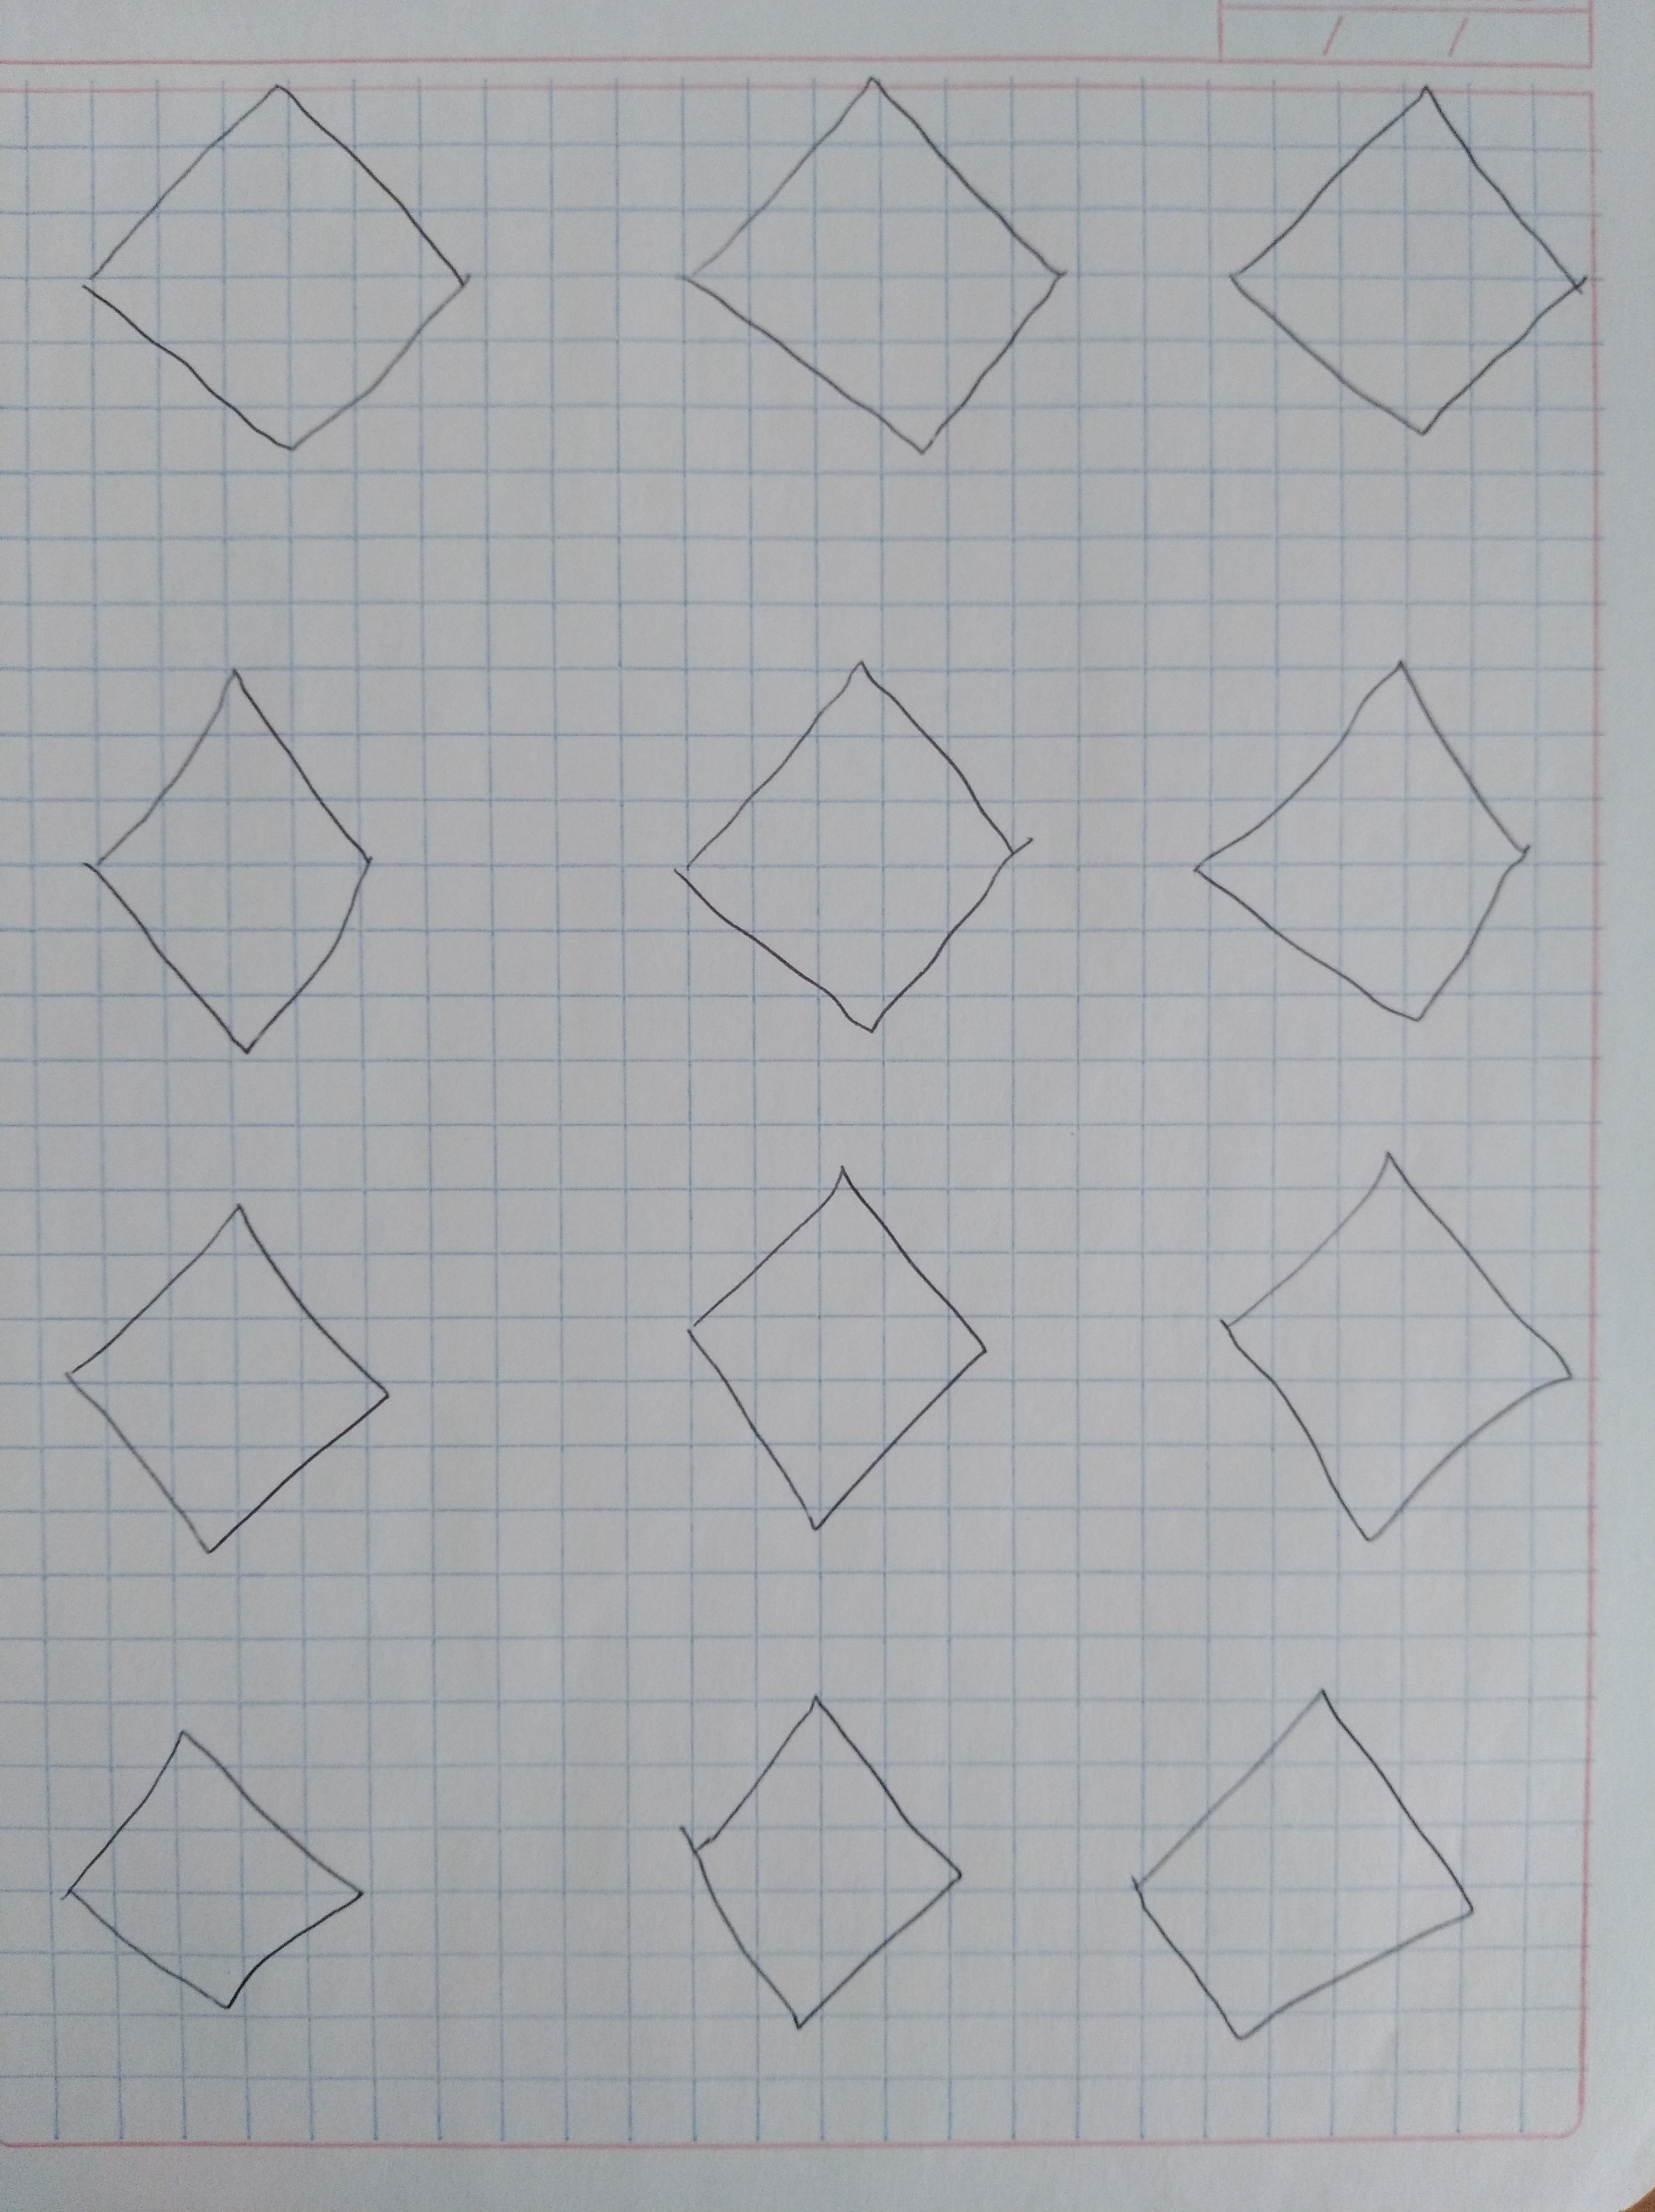decision: (647, 43, 1123, 492), (54, 50, 520, 492), (633, 622, 1076, 1076), (1182, 1119, 1601, 1580), (629, 1133, 1052, 1576), (1161, 626, 1580, 1055), (1200, 57, 1620, 481), (1090, 1654, 1511, 2063), (57, 643, 421, 1093), (33, 1178, 414, 1604), (629, 1658, 1024, 2066), (37, 1699, 414, 2059)
